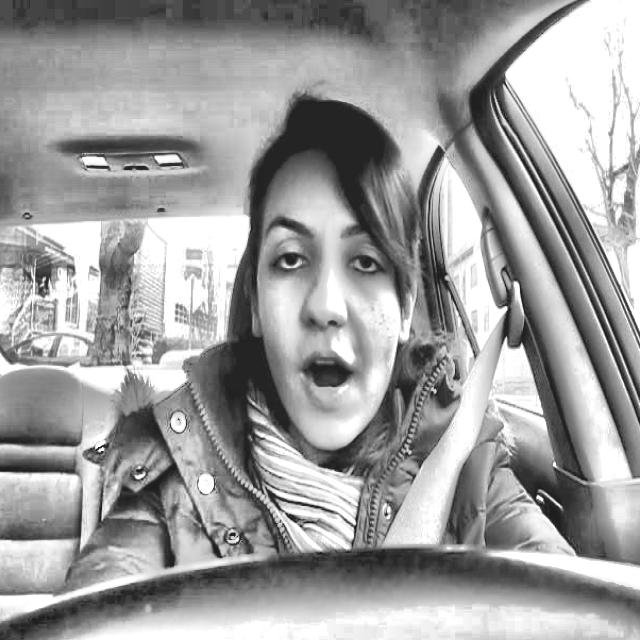open_eyes: (336, 235, 403, 295), (257, 234, 314, 291)
open_mouth: (274, 336, 383, 425)
